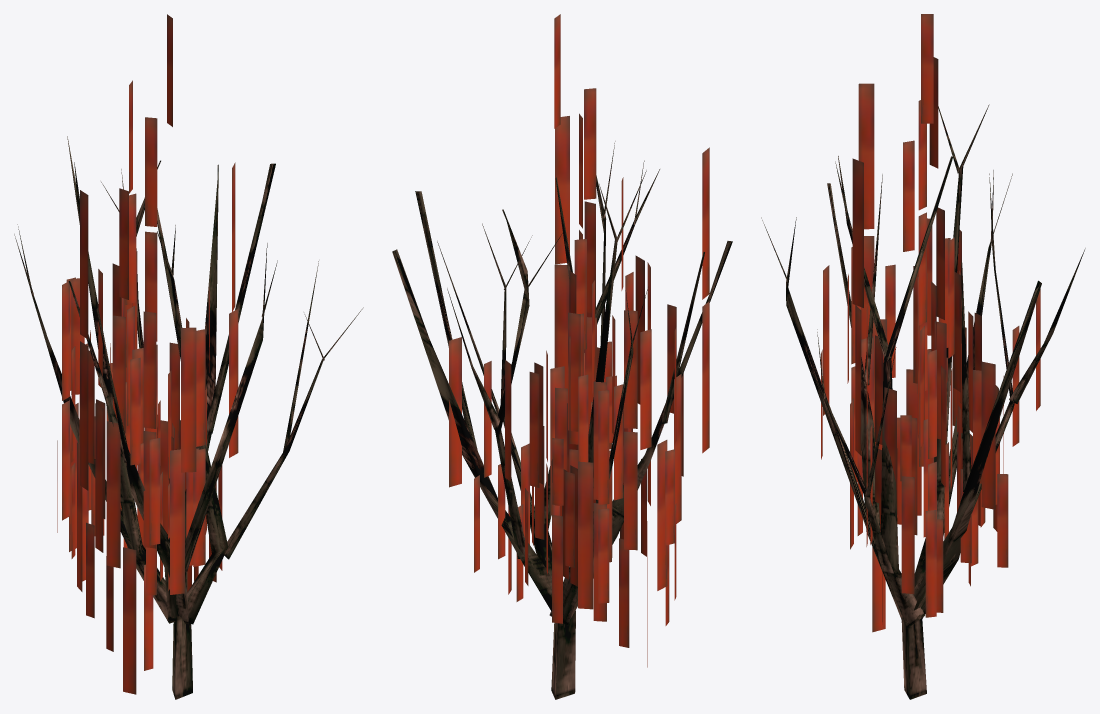
File: TheOctagon_Floor_0_RedTree.gltf
The picture shows the model from 3 angles, left to right: view 1: azimuth 30°, elevation 25°; view 2: azimuth 150°, elevation 25°; view 3: azimuth 270°, elevation 25°; orthographic projection.
Parts seen in each view (by area): view 1: TheOctagon_Floor_0_RedTree; view 2: TheOctagon_Floor_0_RedTree; view 3: TheOctagon_Floor_0_RedTree.
Boxes of the visible parts, x1,y1,x2,y2 form: TheOctagon_Floor_0_RedTree: (14, 14, 363, 699); TheOctagon_Floor_0_RedTree: (392, 14, 732, 699); TheOctagon_Floor_0_RedTree: (761, 14, 1085, 699).
Bounding box in the file's own units: 3.15 × 7.87 × 3.41.
Materials: 90 (90 with a texture image).
